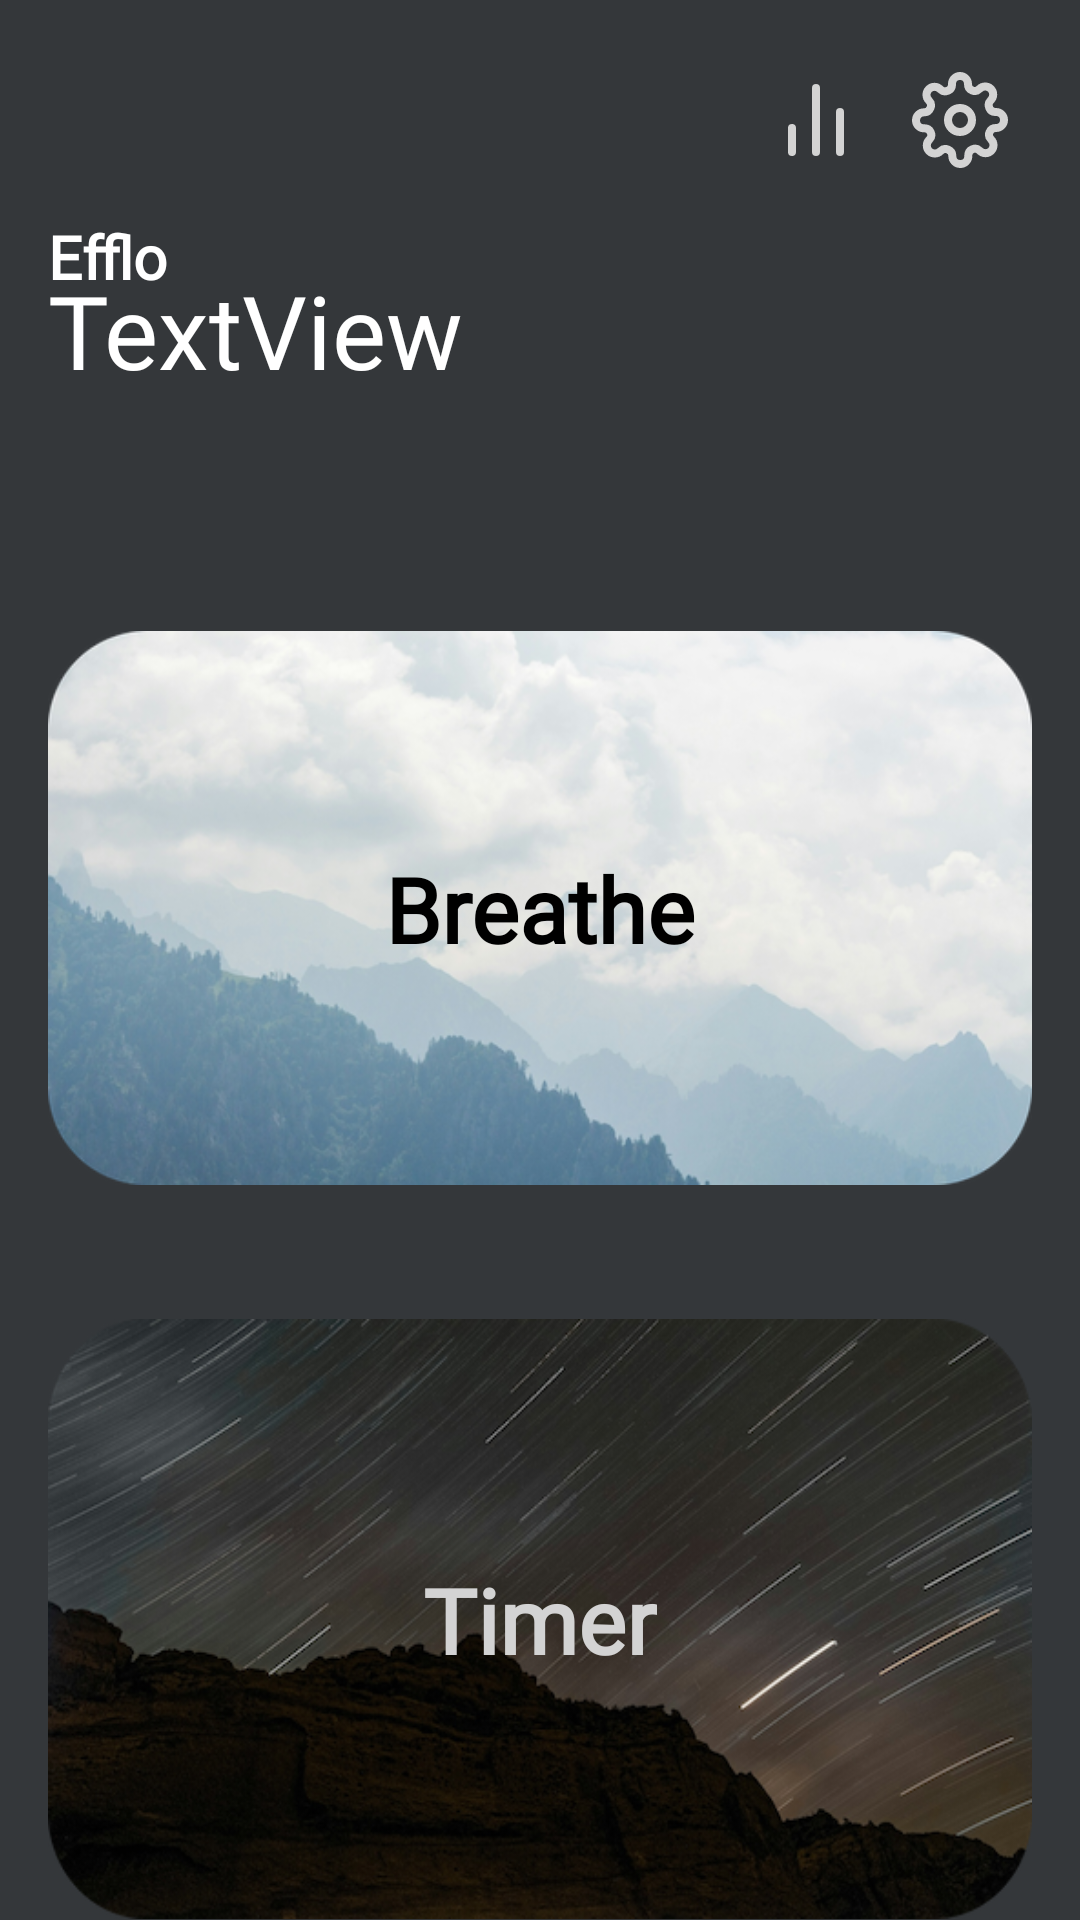

Icons on this 1080×1920 Android screen, each with its box as BBox(x1, y1, x2, y2):
settings: BBox(912, 72, 1008, 168)
stats: BBox(788, 84, 844, 156)
